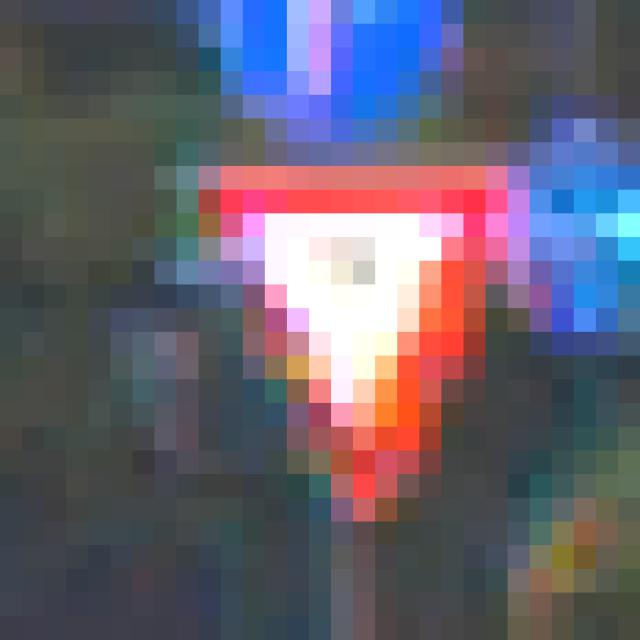Give Way: (134, 120, 531, 523)
